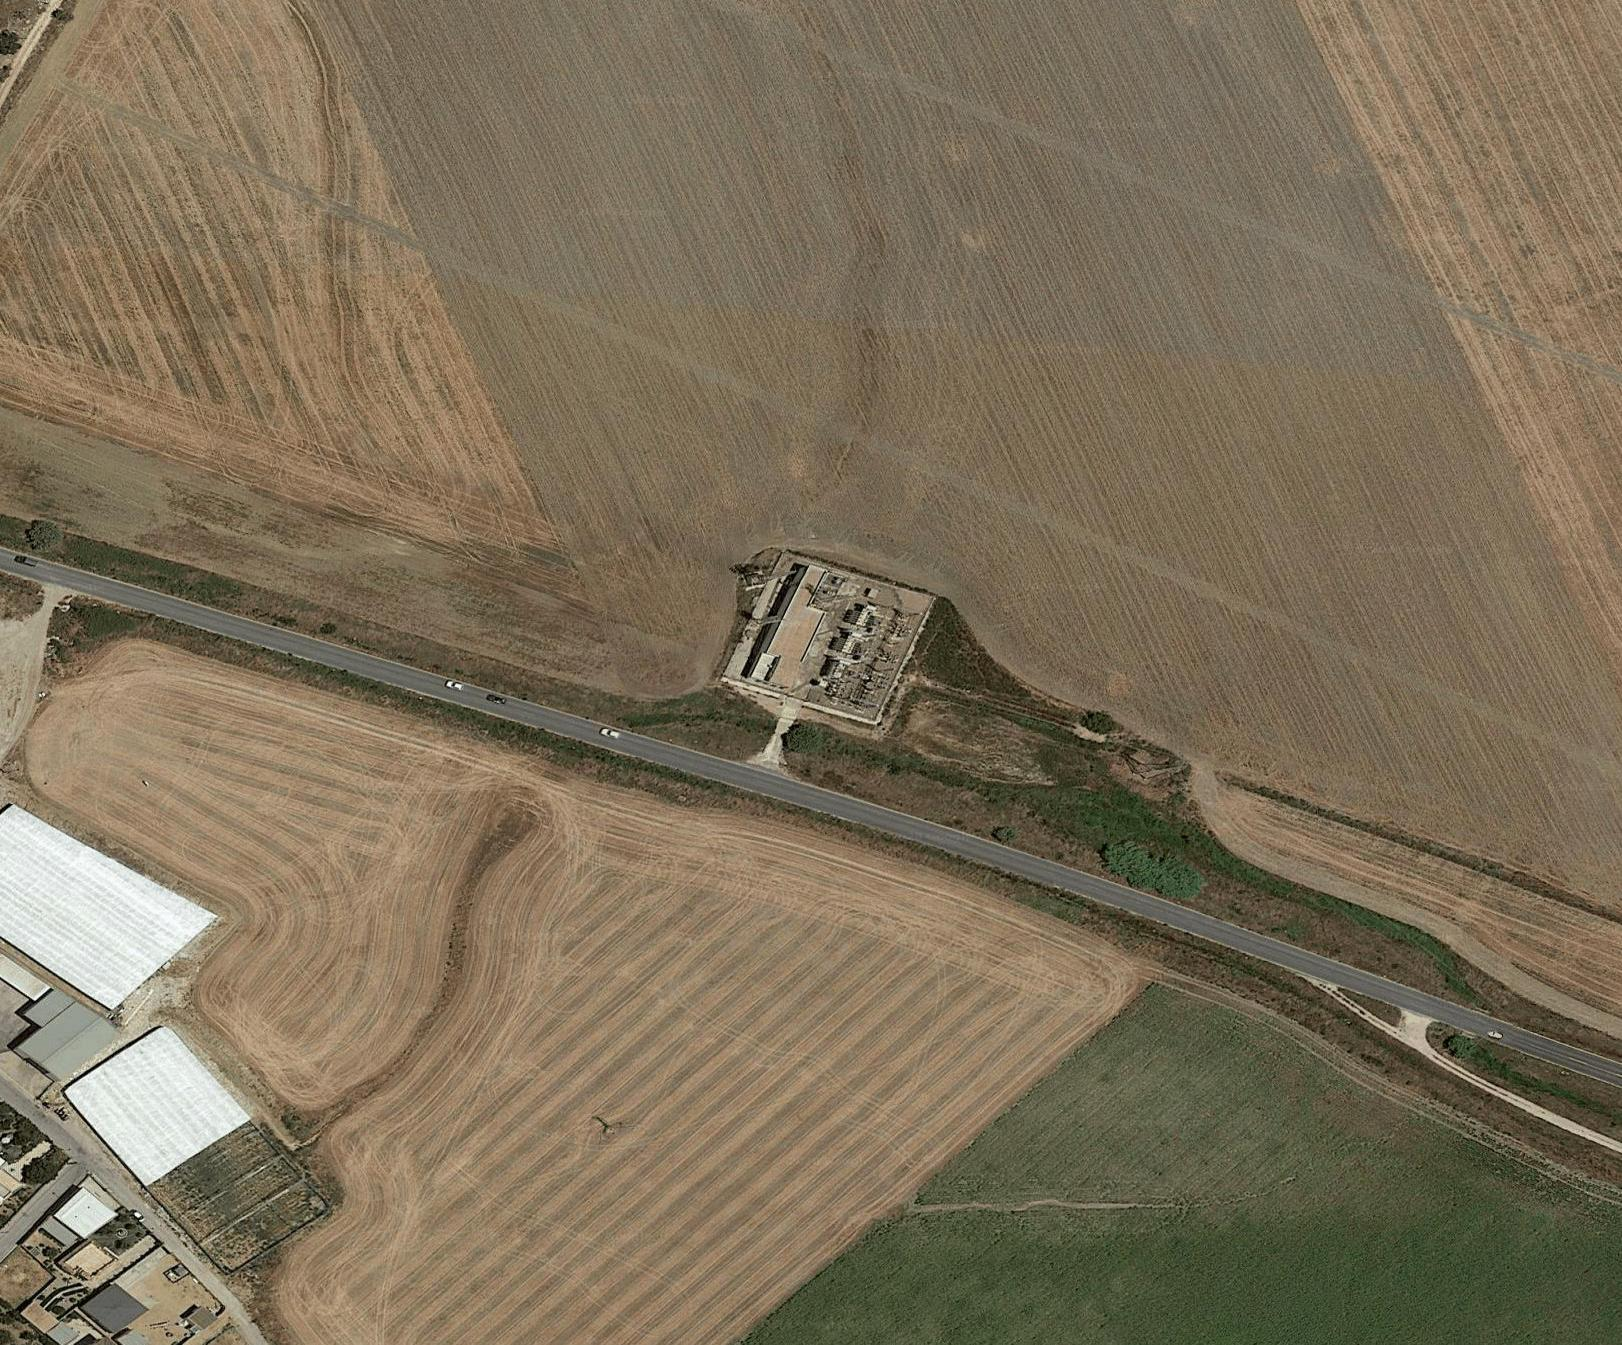substation: (730, 554, 921, 716)
